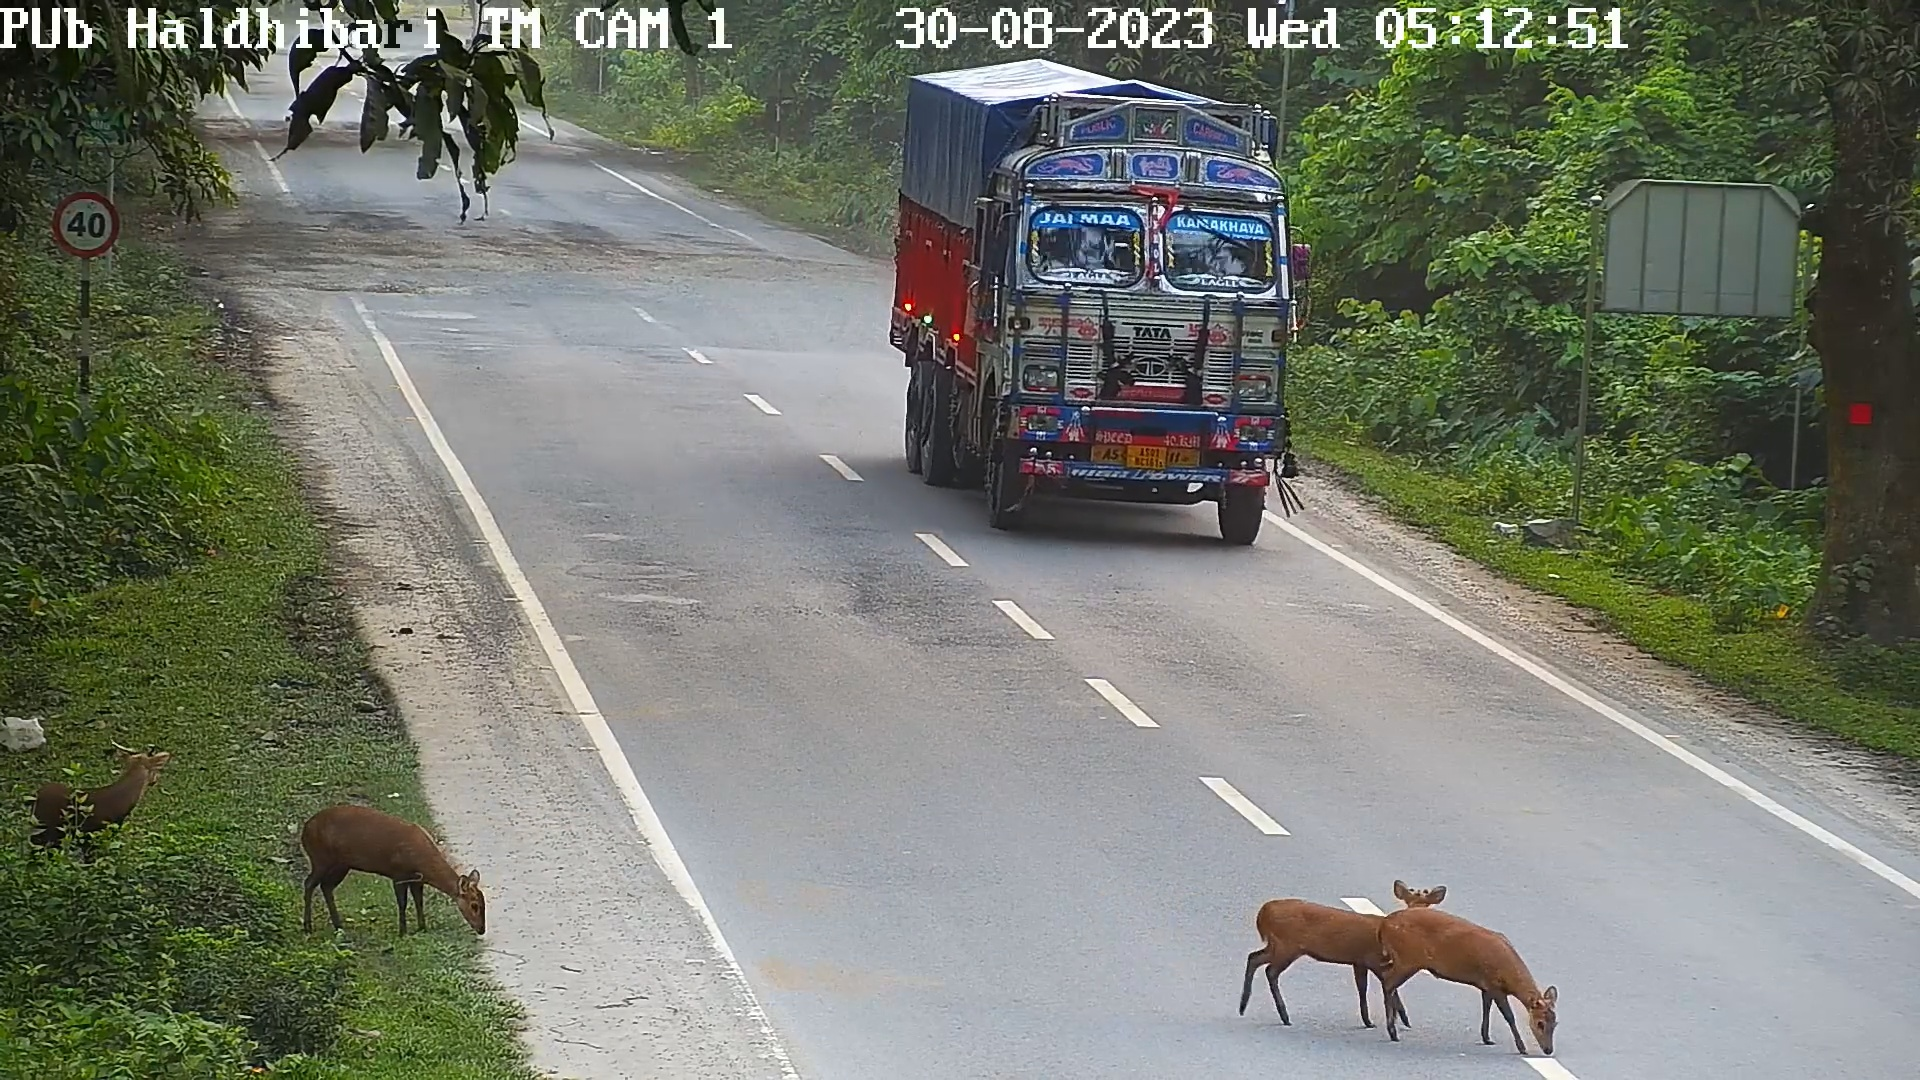deers: (278, 786, 492, 977), (1241, 873, 1451, 1046), (1452, 873, 1565, 1058), (28, 733, 171, 869)
